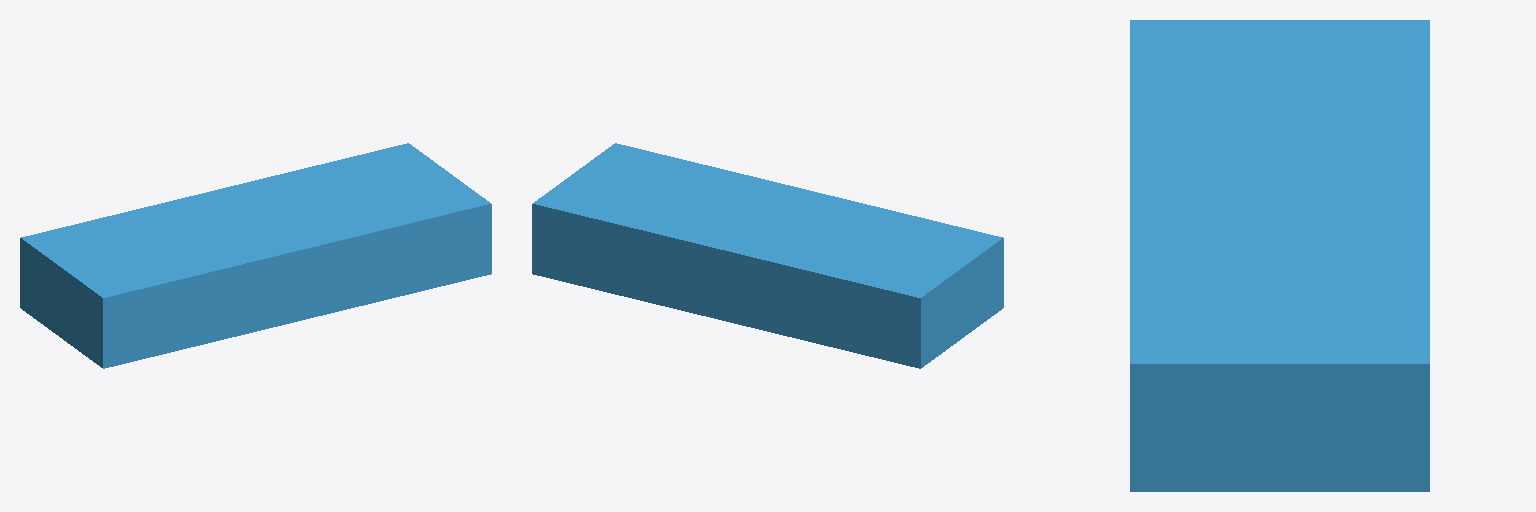
robot.urdf — _test-min:
<?xml version="1.0" ?>
<robot name="_test-min">
  <link name="plate">
    <inertial>
      <origin xyz="0 0 0.0015" rpy="0 0 0" />
      <mass value="0.0088595" />
      <inertia ixx="1.18791e-06" ixy="0" ixz="0" iyy="2.66449e-06" iyz="0" izz="3.83911e-06" />
    </inertial>
    <visual>
      <origin xyz="0 0 0" rpy="0 0 0" />
      <geometry>
        <mesh filename="meshes/plate.stl" scale="0.001 0.001 0.001" />
      </geometry>
    </visual>
    <collision>
      <origin xyz="0 0 0" rpy="0 0 0" />
      <geometry>
        <mesh filename="meshes/plate.stl" scale="0.001 0.001 0.001" />
      </geometry>
    </collision>
  </link>
  <link name="core">
    <inertial>
      <origin xyz="0 0 0" rpy="0 0 0" />
      <mass value="0.01" />
      <inertia ixx="6.61875e-07" ixy="0" ixz="0" iyy="4.0875e-06" iyz="0" izz="4.50938e-06" />
    </inertial>
    <visual>
      <origin xyz="0 0 0" rpy="0 0 0" />
      <geometry>
        <mesh filename="meshes/core.stl" scale="0.001 0.001 0.001" />
      </geometry>
    </visual>
    <collision>
      <origin xyz="0 0 0" rpy="0 0 0" />
      <geometry>
        <mesh filename="meshes/core.stl" scale="0.001 0.001 0.001" />
      </geometry>
    </collision>
  </link>
  <link name="eyes">
    <inertial>
      <origin xyz="0 0 0" rpy="0 0 0" />
      <mass value="0.001" />
      <inertia ixx="1e-07" ixy="0" ixz="0" iyy="1e-07" iyz="0" izz="1e-07" />
    </inertial>
    <visual>
      <origin xyz="0 0 0" rpy="0 0 0" />
      <geometry>
        <mesh filename="meshes/eyes.stl" scale="0.001 0.001 0.001" />
      </geometry>
    </visual>
    <collision>
      <origin xyz="0 0 0" rpy="0 0 0" />
      <geometry>
        <mesh filename="meshes/eyes.stl" scale="0.001 0.001 0.001" />
      </geometry>
    </collision>
  </link>
  <link name="buzz">
    <inertial>
      <origin xyz="0 0 0" rpy="0 0 0" />
      <mass value="0.002" />
      <inertia ixx="1e-07" ixy="0" ixz="0" iyy="1e-07" iyz="0" izz="1e-07" />
    </inertial>
    <visual>
      <origin xyz="0 0 0" rpy="0 0 0" />
      <geometry>
        <mesh filename="meshes/buzz.stl" scale="0.001 0.001 0.001" />
      </geometry>
    </visual>
    <collision>
      <origin xyz="0 0 0" rpy="0 0 0" />
      <geometry>
        <mesh filename="meshes/buzz.stl" scale="0.001 0.001 0.001" />
      </geometry>
    </collision>
  </link>
  <joint name="buzz_joint" type="fixed">
    <parent link="plate" />
    <child link="buzz" />
    <origin xyz="-0.018 0 0.004" rpy="0 0 0" />
  </joint>
  <joint name="core_joint" type="fixed">
    <parent link="plate" />
    <child link="core" />
    <origin xyz="0 0 0.004" rpy="0 0 0" />
  </joint>
  <joint name="eyes_joint" type="fixed">
    <parent link="plate" />
    <child link="eyes" />
    <origin xyz="0.022 0 0.004" rpy="0 0 0" />
  </joint>
</robot>

--- Facts derived from the render (not from the file) ---
The picture shows the robot from 3 angles, left to right: view 1: azimuth 30°, elevation 25°; view 2: azimuth 150°, elevation 25°; view 3: azimuth 270°, elevation 25°; orthographic projection.
Model _test-min with 4 links and 3 joints (3 fixed), rooted at plate, posed every joint at zero.
Links seen in each view (by area): view 1: core; view 2: core; view 3: core.
Boxes of the visible links, box(x1,y1,x2,y2) form: core: box(20, 143, 491, 368); core: box(532, 143, 1003, 368); core: box(1130, 20, 1429, 491).
Size in the robot's own frame: 0.069 by 0.0255 by 0.012 metres.
3 mesh visuals loaded from 4 distinct referenced files (3 binary STL); not drawn: 1 (reference not matched to a file when rendering).
